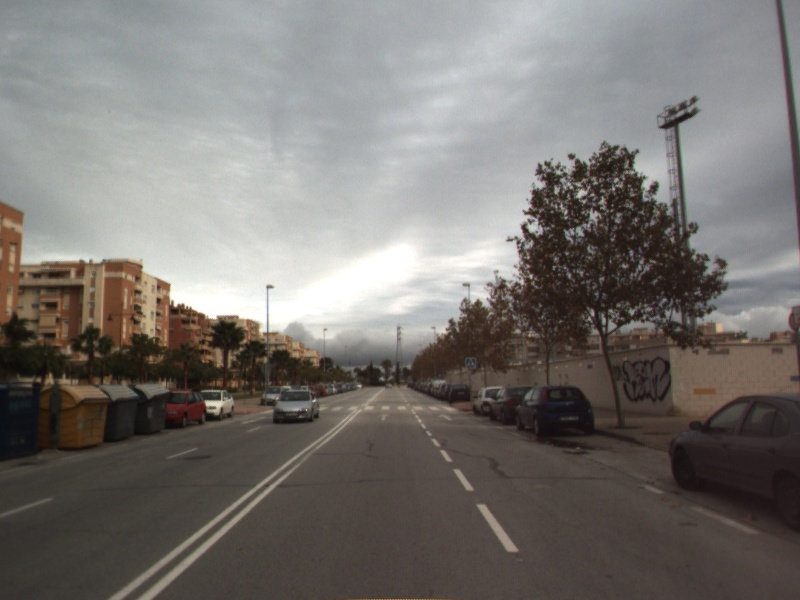STRAIGHT: (437, 411, 454, 422), (376, 411, 392, 422)
